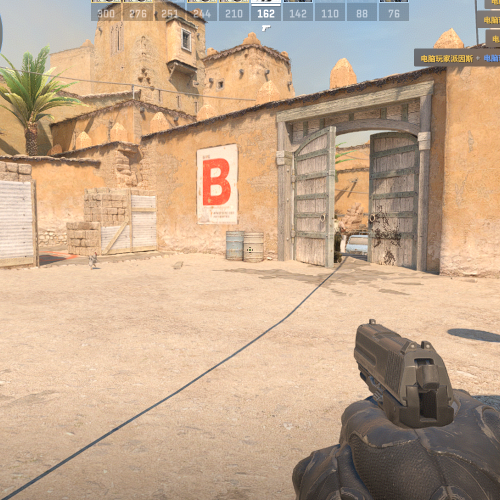t_body: (333, 214, 347, 263)
